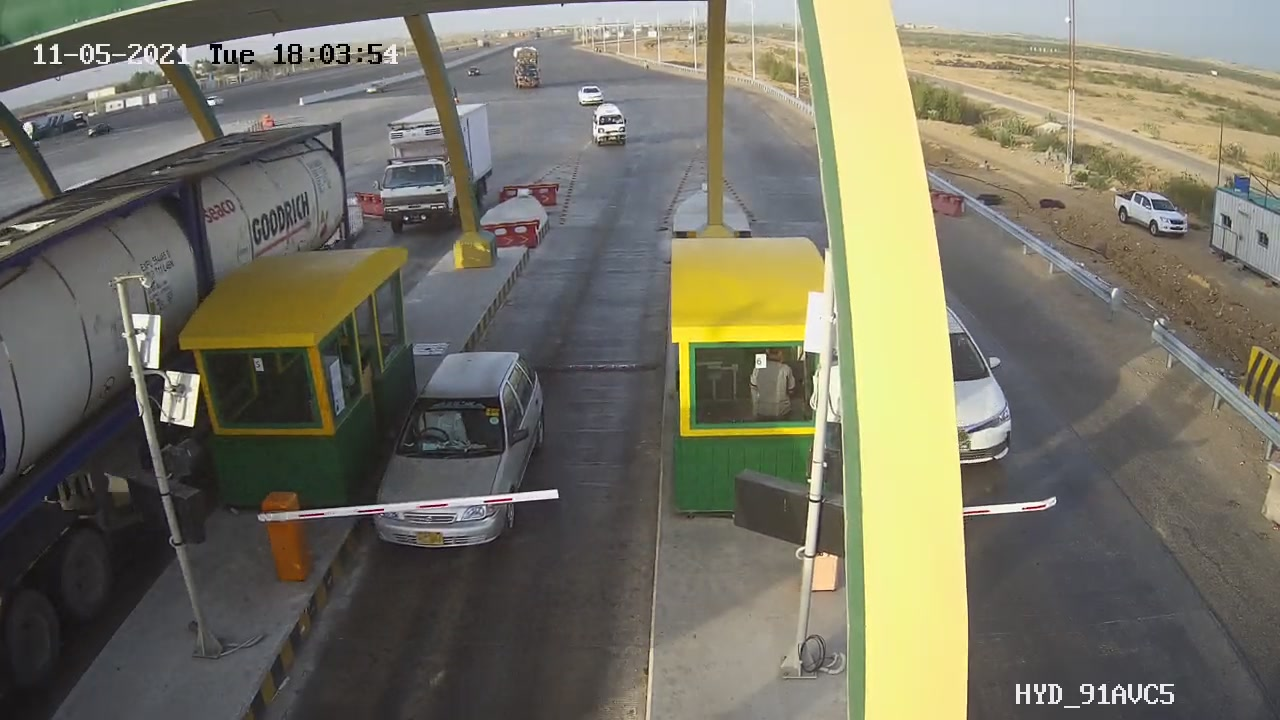F1: (350, 333, 572, 572)
